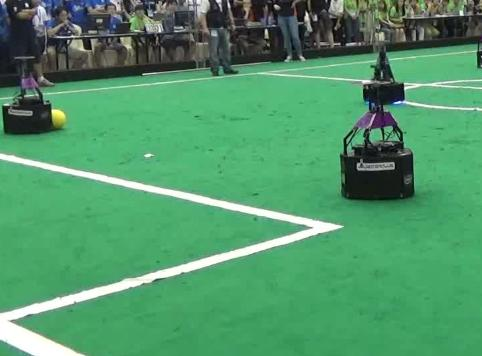robot: (339, 80, 418, 200), (1, 54, 56, 136), (360, 38, 407, 104)
